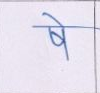e_matra: (43, 12, 64, 25)
